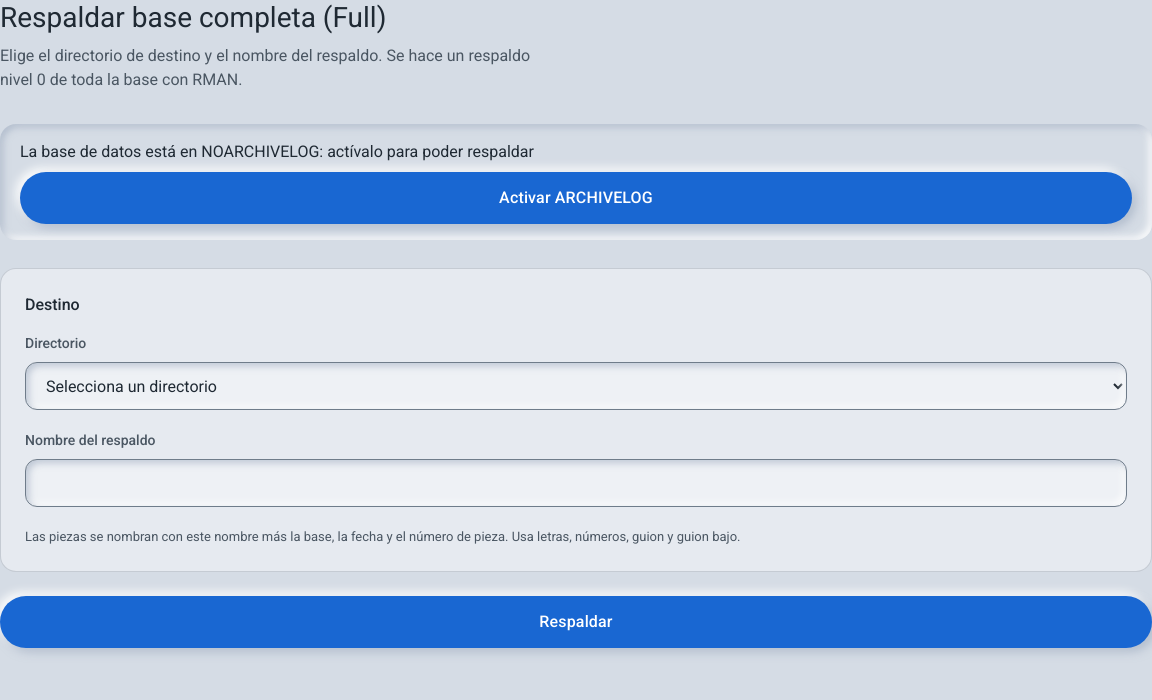
Test case: activar ARCHIVELOG › pide confirmación explícita y no activa nada hasta confirmar
The image size is (1152, 700).
Click the button "Activar ARCHIVELOG" at [576, 198], box [20,172,1132,224]
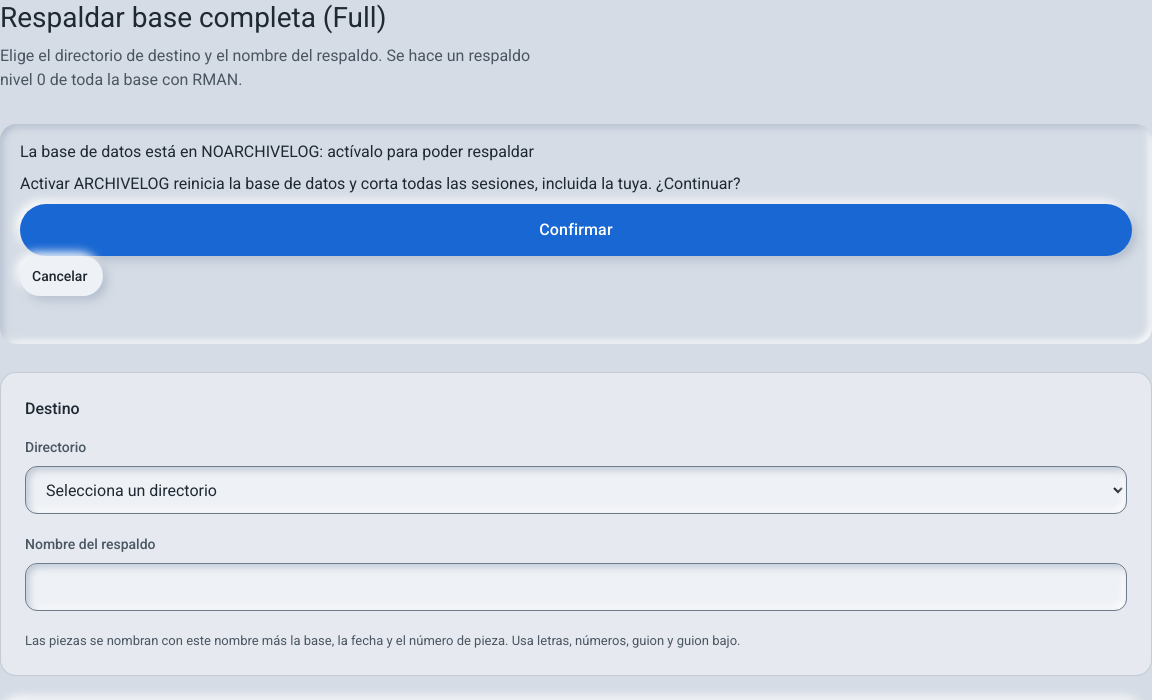
Check: the text "Activar ARCHIVELOG reinicia la base de datos y corta todas las sesiones, incluida la tuya. ¿Continuar?" is shown, box [20,174,740,193]
